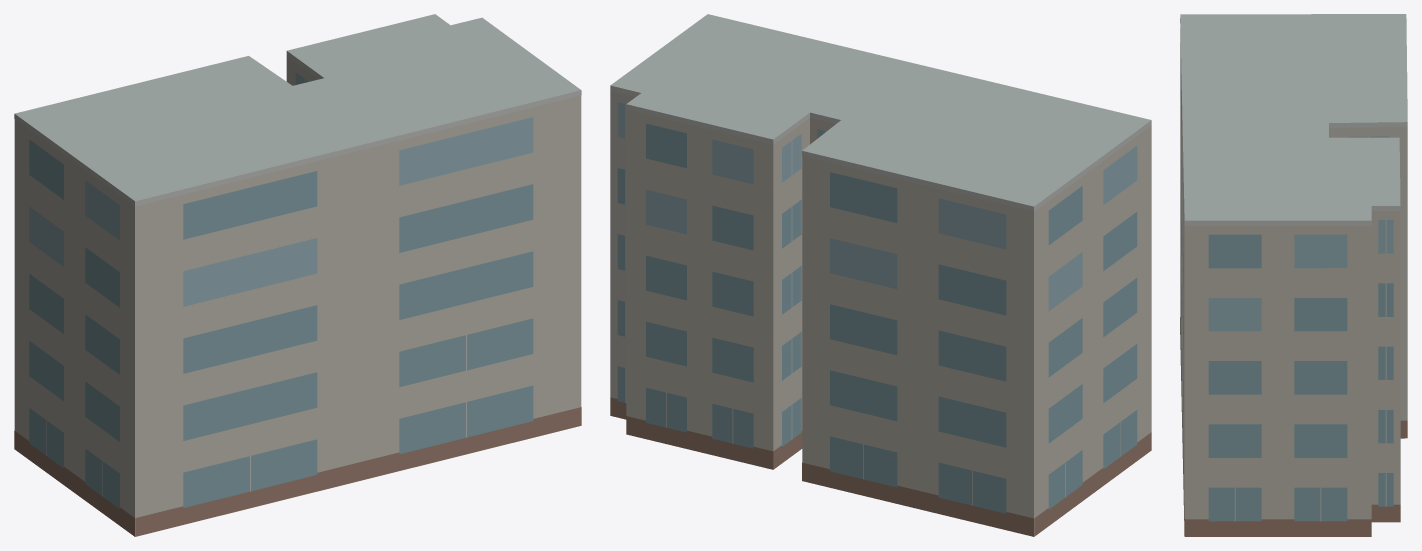
Rendered from survey-upis-32982761.glb.
3 views of the same model, side by side, from view 1: azimuth 30°, elevation 25°; view 2: azimuth 150°, elevation 25°; view 3: azimuth 270°, elevation 25° (orthographic). The views are drawn at different scales.
Parts seen in each view (by area): view 1: survey-upis-32982761.tmp; view 2: survey-upis-32982761.tmp; view 3: survey-upis-32982761.tmp.
Boxes of the visible parts, x1,y1,x2,y2 form: survey-upis-32982761.tmp: (14, 14, 581, 536); survey-upis-32982761.tmp: (610, 14, 1151, 536); survey-upis-32982761.tmp: (1180, 14, 1407, 536).
Bounding box in the file's own units: 22.01 × 15.7 × 10.25.
